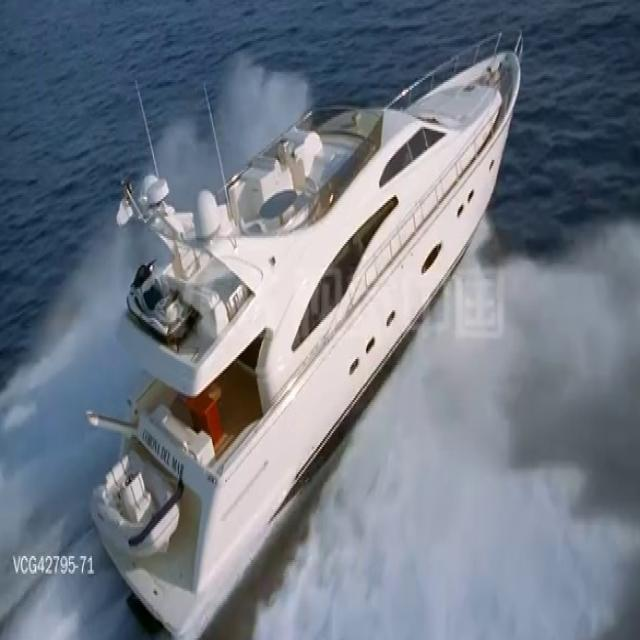houseboat: (87, 12, 532, 636)
